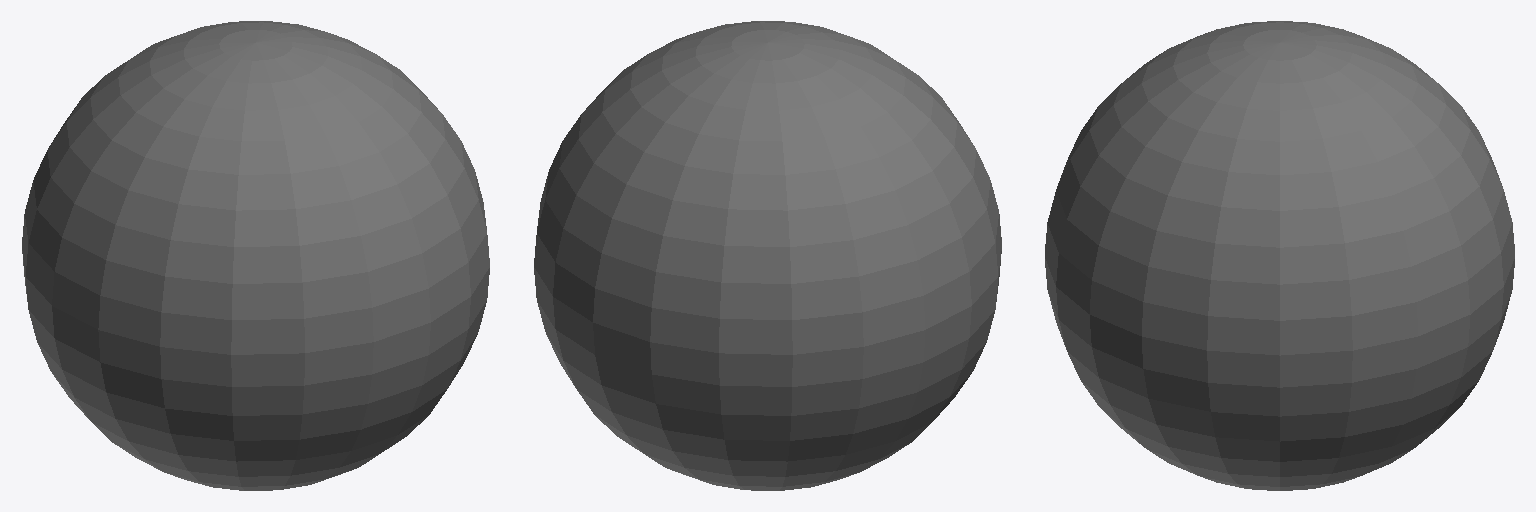
Rendered from player_Lleg_joint.obj.
The picture shows the model from 3 angles: view 1: azimuth 30°, elevation 25°; view 2: azimuth 150°, elevation 25°; view 3: azimuth 270°, elevation 25°; orthographic projection.
Visible parts, largest first — view 1: pSphere5; view 2: pSphere5; view 3: pSphere5.
Boxes of the visible parts, x1=… form: pSphere5: x1=22, y1=21, x2=489, y2=490; pSphere5: x1=534, y1=21, x2=1001, y2=490; pSphere5: x1=1045, y1=21, x2=1514, y2=490.
Size of the model in its own units: 0.3834 by 0.3834 by 0.3834.